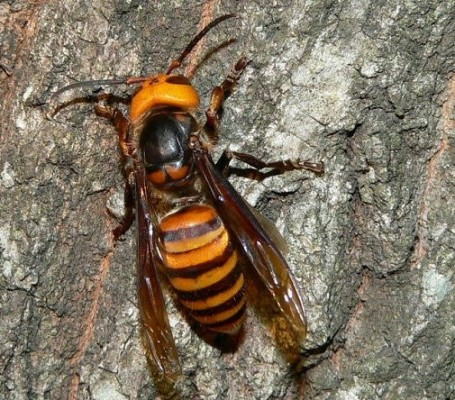asian_giant_hornet: (95, 47, 258, 344)
